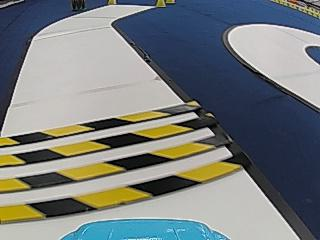bump: (0, 101, 243, 225)
